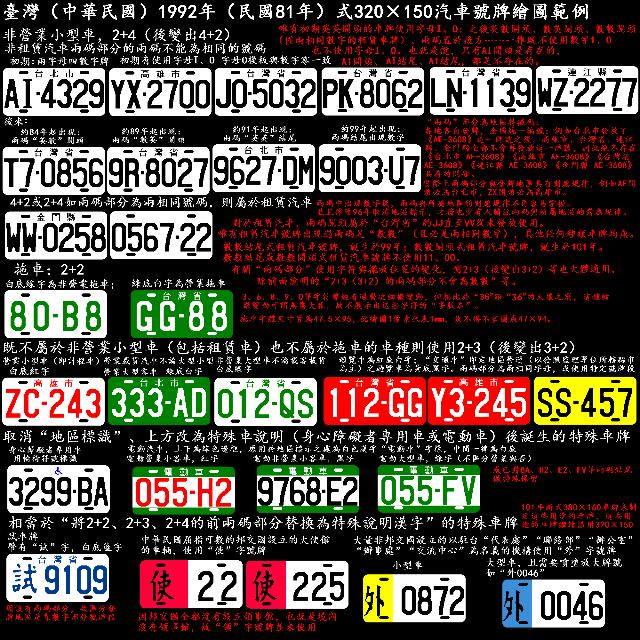plate: (132, 466, 235, 515), (322, 67, 424, 116), (430, 66, 532, 115), (5, 211, 107, 260), (109, 68, 212, 116), (2, 147, 105, 195), (107, 147, 210, 195), (2, 378, 105, 426), (7, 465, 110, 513), (3, 68, 105, 116), (215, 68, 317, 116), (536, 66, 638, 114), (213, 144, 315, 192), (319, 144, 421, 192), (110, 211, 212, 259), (108, 377, 210, 425), (257, 465, 359, 513)
